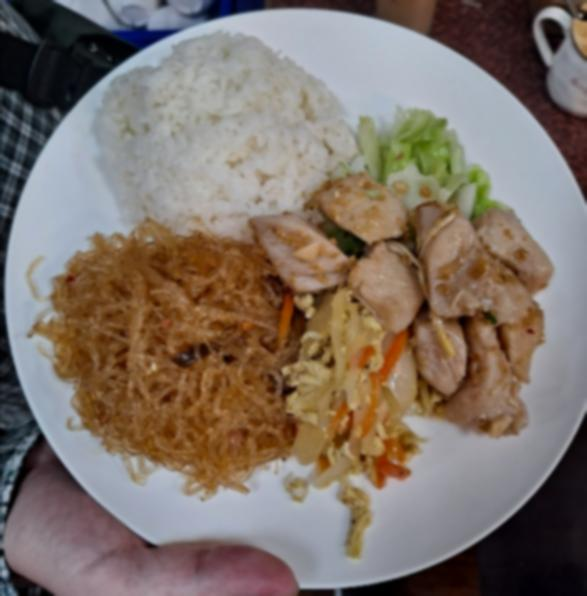big fried chicken leg: (7, 9, 587, 595)
big herbal chicken leg: (84, 26, 356, 244)
braised fish fillet: (40, 237, 312, 476), (292, 292, 419, 554), (359, 100, 485, 211)
braised pork: (252, 179, 555, 439)
